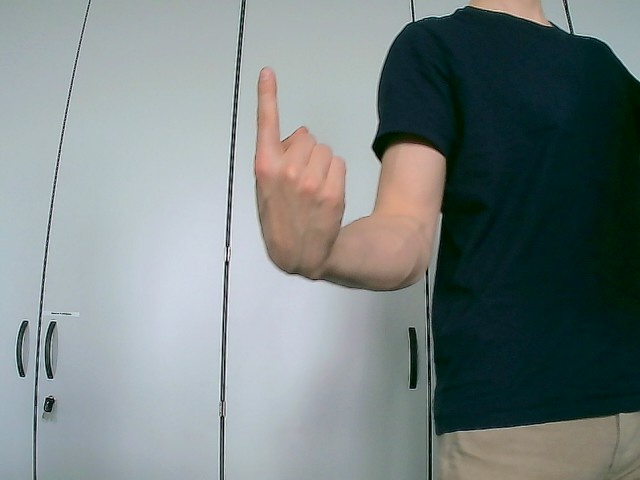up: (252, 65, 348, 279)
